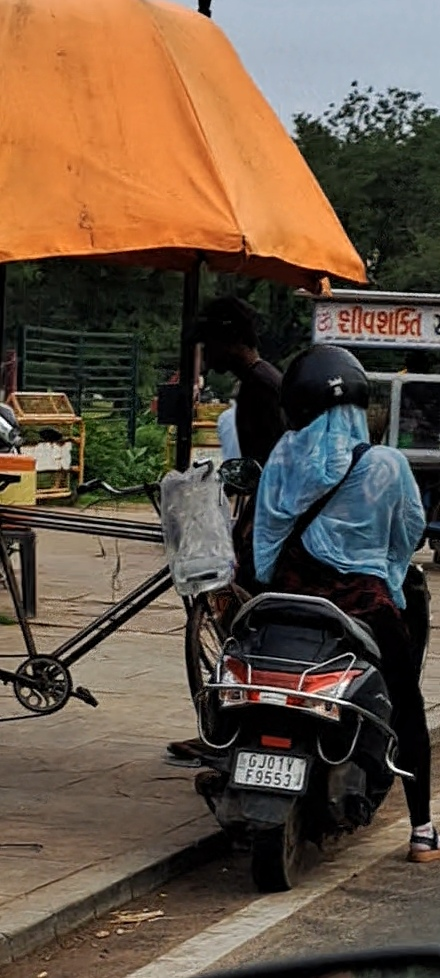BikeWithRider: (178, 340, 435, 886)
Helmet: (273, 344, 375, 442)
